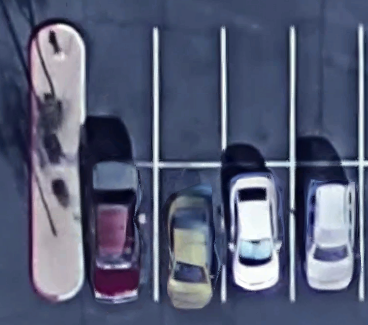Occupied: (82, 164, 156, 301), (292, 164, 363, 301), (224, 165, 293, 301), (156, 164, 224, 301)
Vacant: (82, 28, 155, 164), (293, 28, 362, 164), (224, 28, 292, 165), (156, 28, 224, 164)
